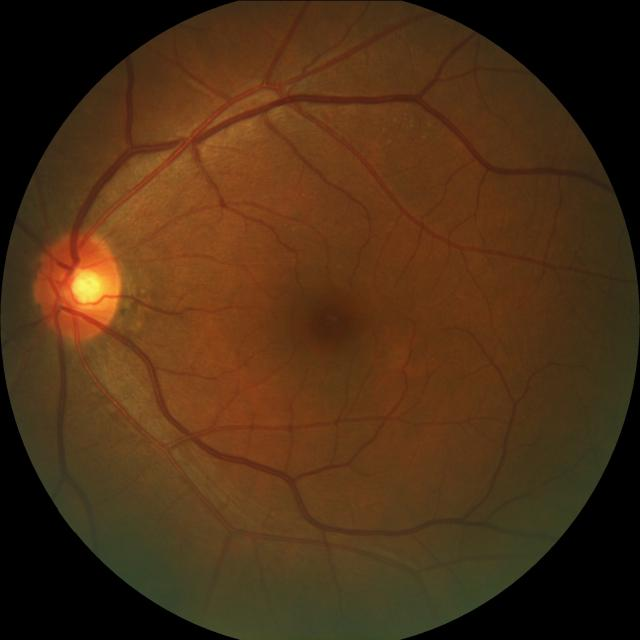OC: (64, 265, 106, 308)
OD: (36, 229, 124, 339)
